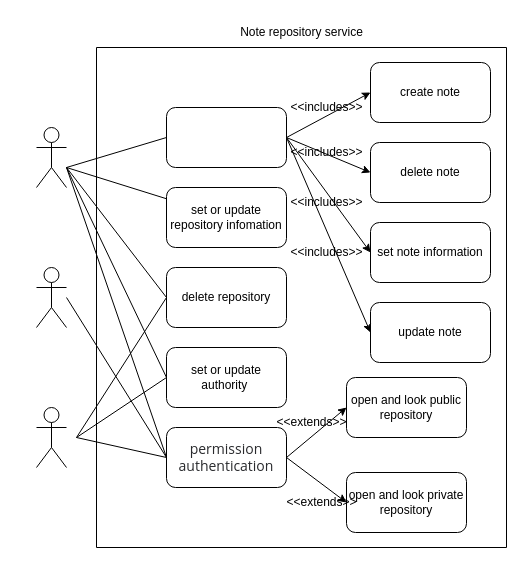
This 524x565 diagram has some shape labels left out. The shapes that lost their labels are listed below. From the top down, each one's box as (x1, y1, x2, y2) in pixels, then its label:
(36, 126, 66, 188): writer
(166, 106, 286, 168): create repository
(36, 266, 66, 328): reader
(36, 406, 66, 468): administrator
